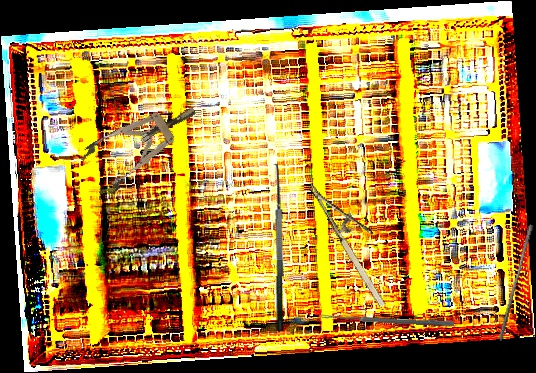Needle Holder: (307, 169, 407, 310)
Pusher: (498, 223, 534, 342)
Spatula Surgical: (261, 163, 288, 332)
Speculum: (75, 88, 209, 200)
Surgical Spoon: (320, 313, 455, 327)
